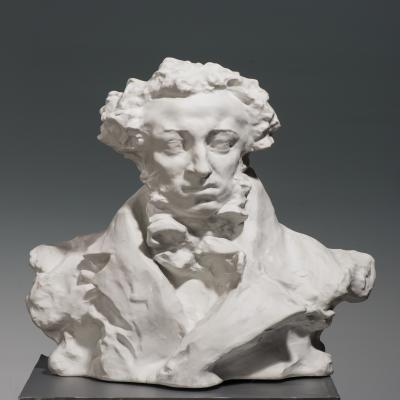sculpture: (25, 58, 377, 392)
